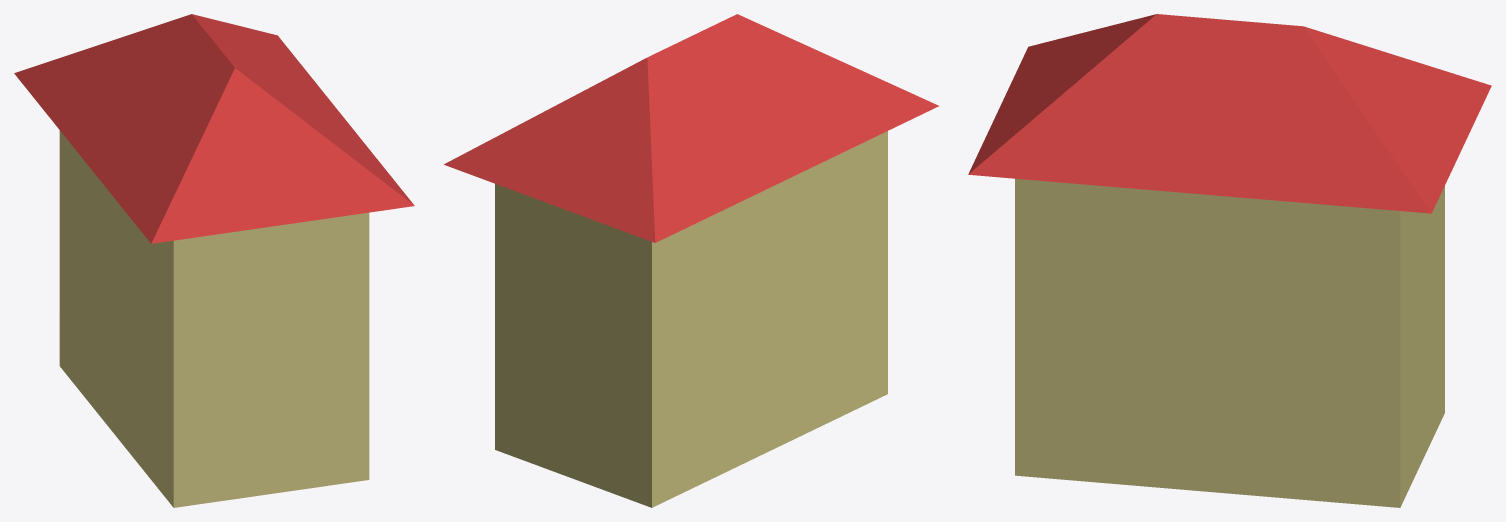
The picture shows the model from 3 angles, left to right: view 1: azimuth 30°, elevation 25°; view 2: azimuth 150°, elevation 25°; view 3: azimuth 270°, elevation 25°; orthographic projection. The views are drawn at different scales.
Size of the model in its own units: 7.42 by 9.84 by 8.78.
